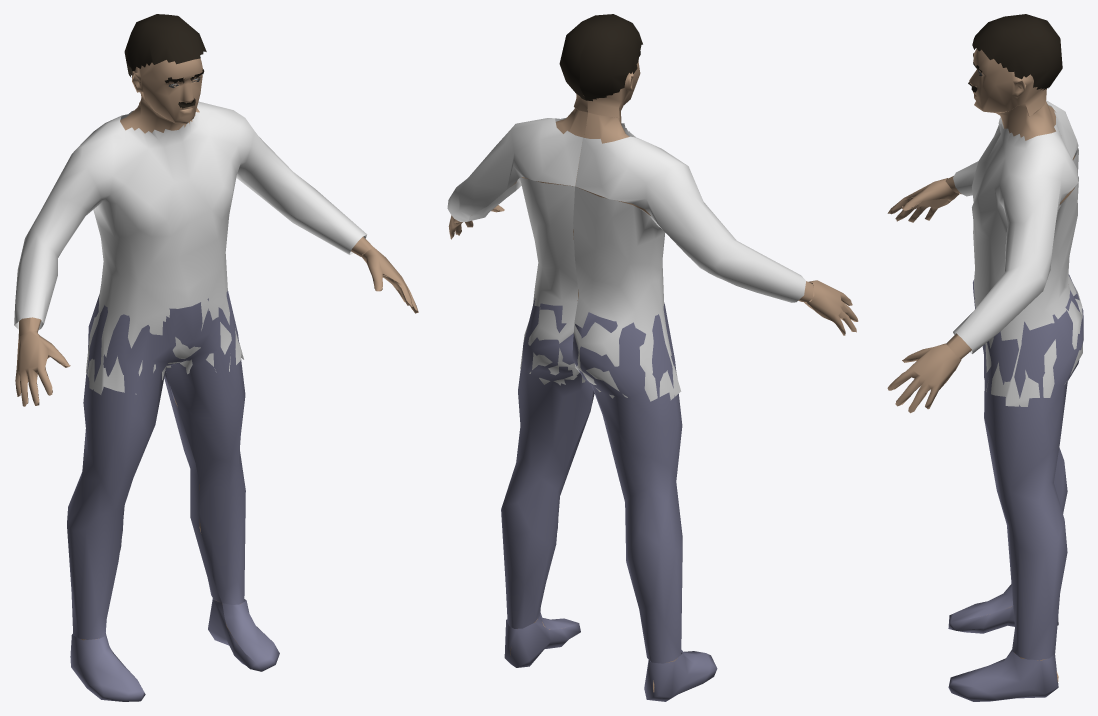
File: man_04.glb
3 renders of one model, left to right at view 1: azimuth 30°, elevation 25°; view 2: azimuth 150°, elevation 25°; view 3: azimuth 270°, elevation 25°, orthographic.
Visible parts, largest first — view 1: crowd; view 2: crowd; view 3: crowd.
Boxes of the visible parts, x1,y1,x2,y2 form: crowd: (14,14,418,701); crowd: (447,14,858,701); crowd: (887,14,1083,701).
Bounding box in the file's own units: 1.1 × 1.72 × 0.4767.
